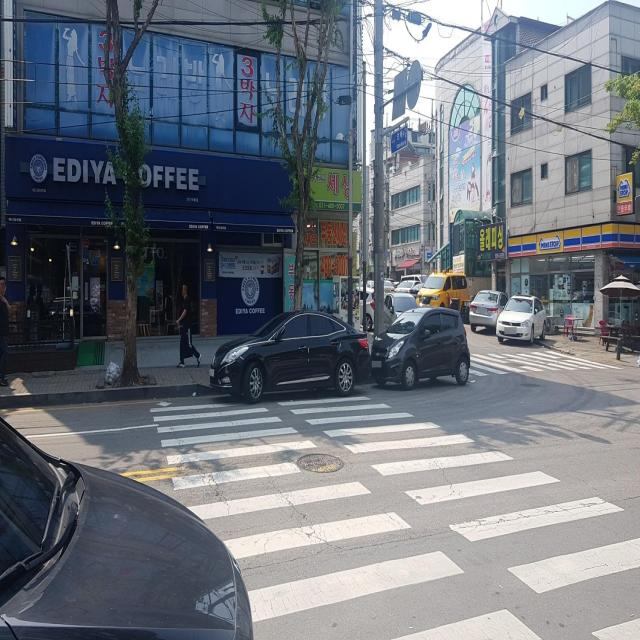횡단보도: (148, 393, 637, 637), (458, 349, 616, 380)
